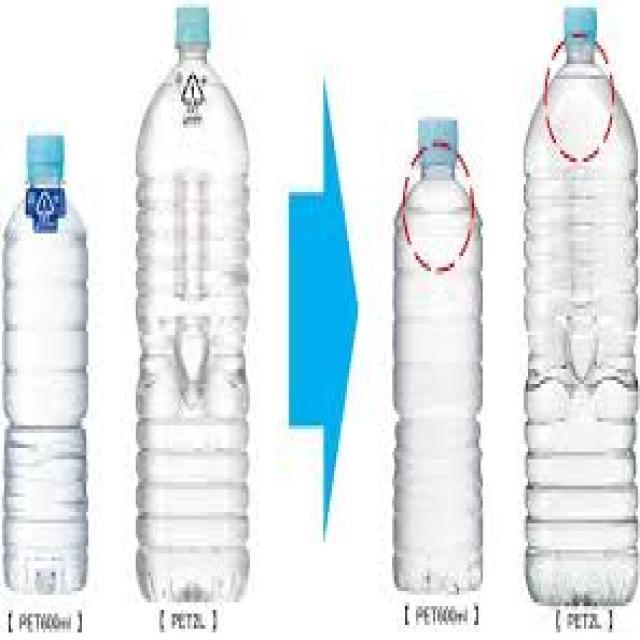Plastic: (522, 8, 640, 608), (134, 7, 250, 604), (0, 130, 94, 595), (393, 113, 483, 596)
